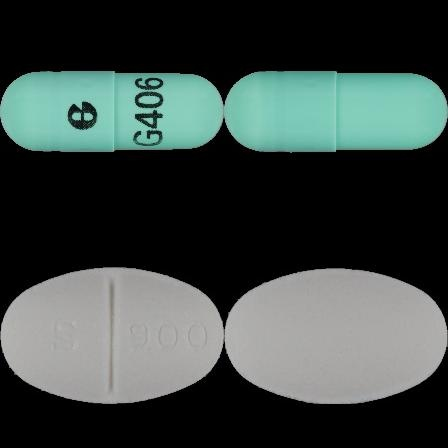43063-368: (0, 0, 224, 224)
